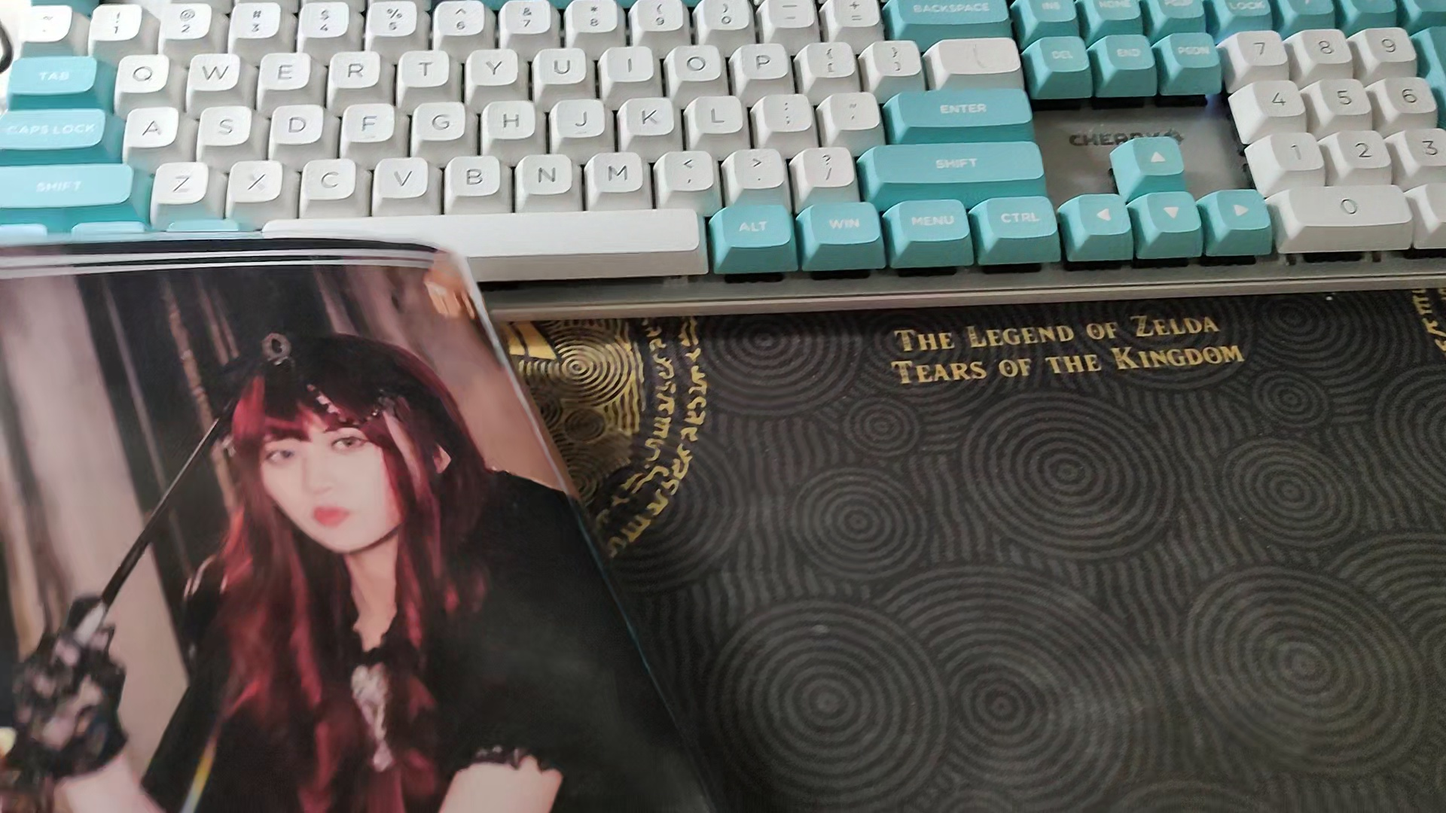Photo_book: (0, 240, 718, 813)
